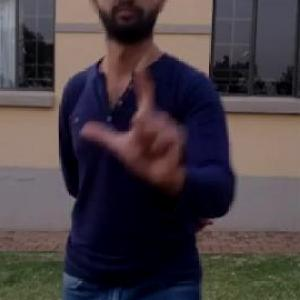land_hand: (79, 51, 194, 185)
